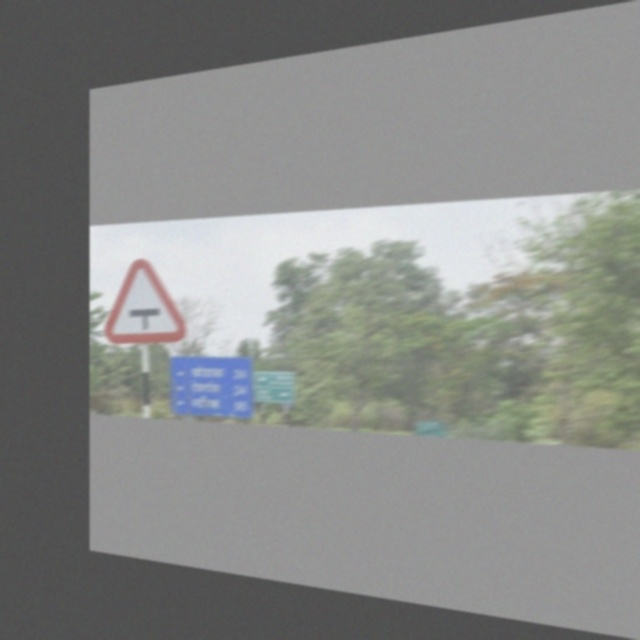T_Intersection: (103, 255, 189, 353)
